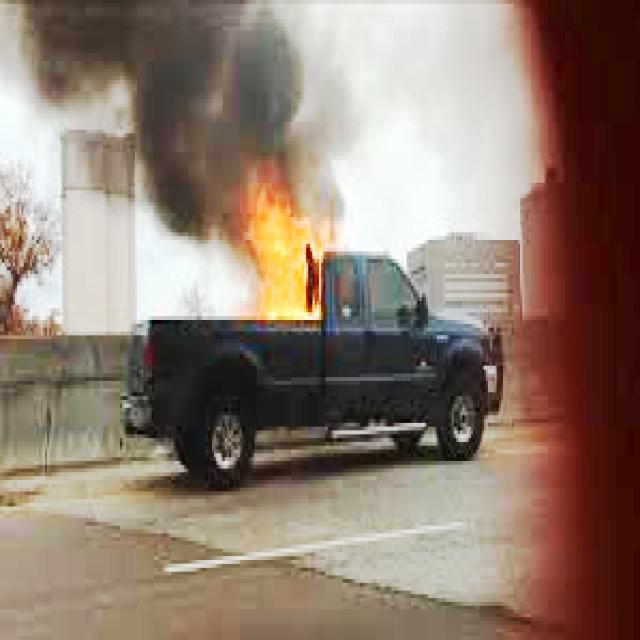api: (224, 161, 346, 348)
